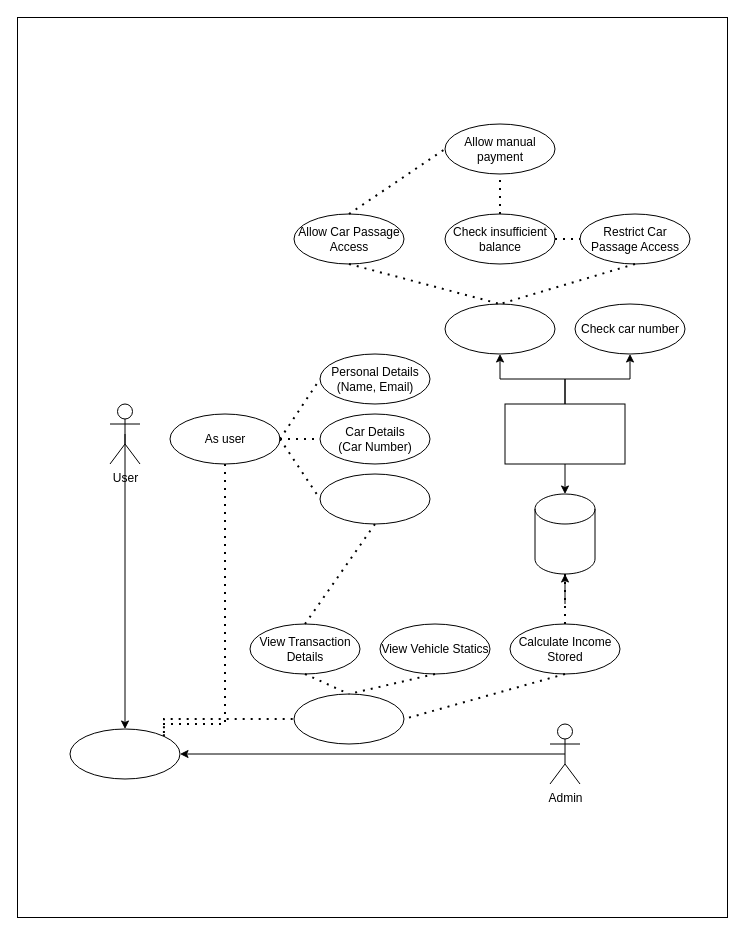
This 745x935 diagram has some shape labels left out. The shapes that lost their labels are listed below. From the top down, each one's box as (x1, y1, x2, y2) in pixels, then its label:
(444, 303, 555, 354): Check fee deducted from e-Wallet
(504, 403, 625, 464): Automated System
(319, 473, 430, 524): e-Wallet Details (Balance, KYC)
(534, 493, 595, 574): Total Income Stored
(293, 693, 404, 744): As Admin
(69, 728, 180, 779): Login/Register
